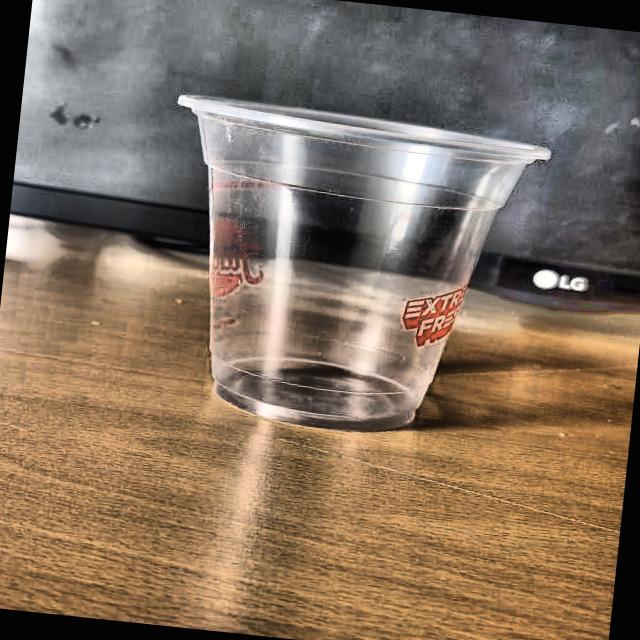plastic cup: (142, 86, 559, 452)
